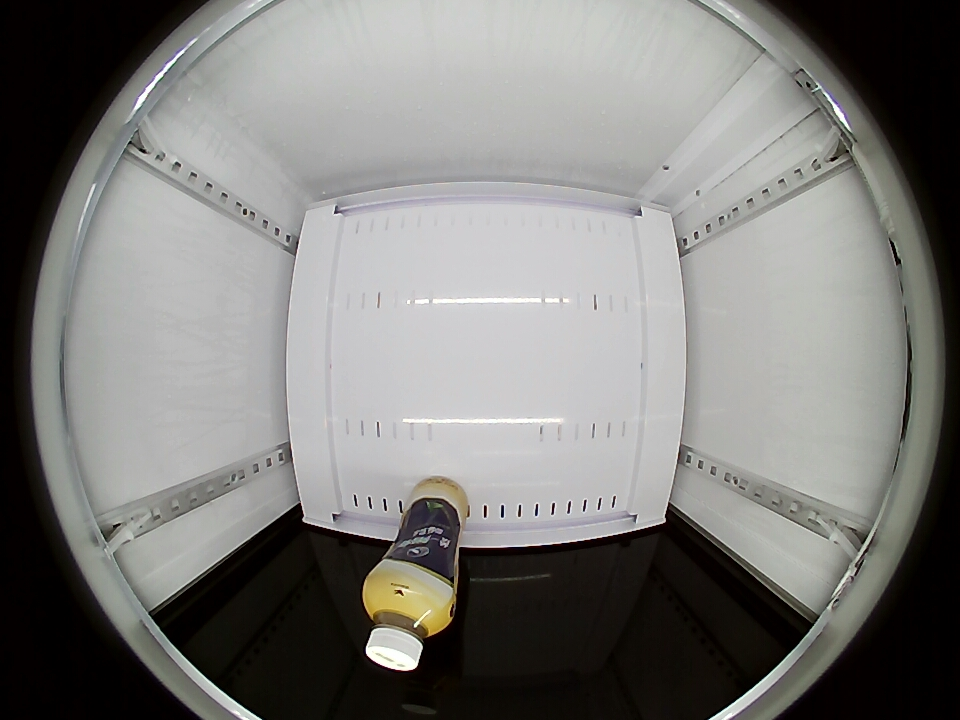asamu: (362, 575, 455, 673)
